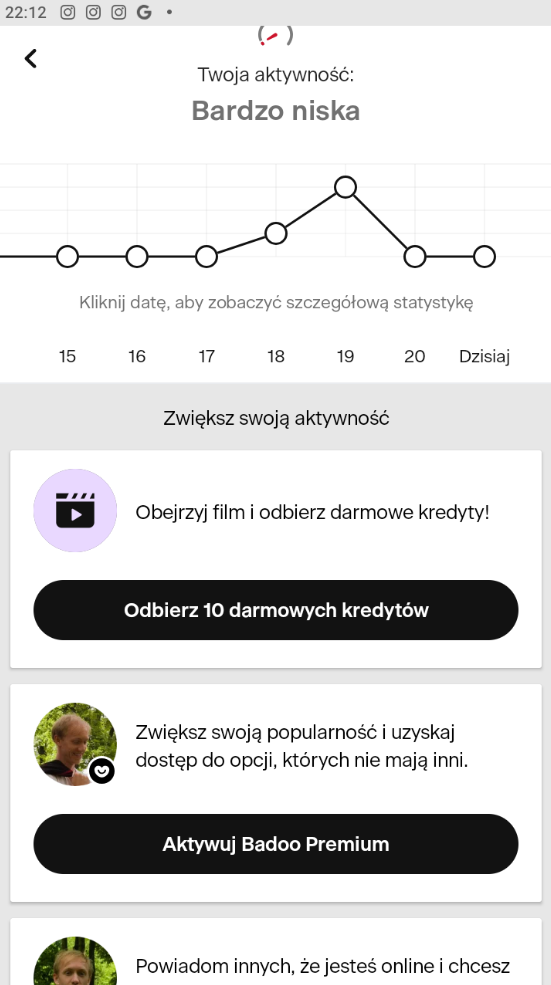kupno_button: (36, 813, 519, 879)
start_button: (37, 577, 517, 639)
